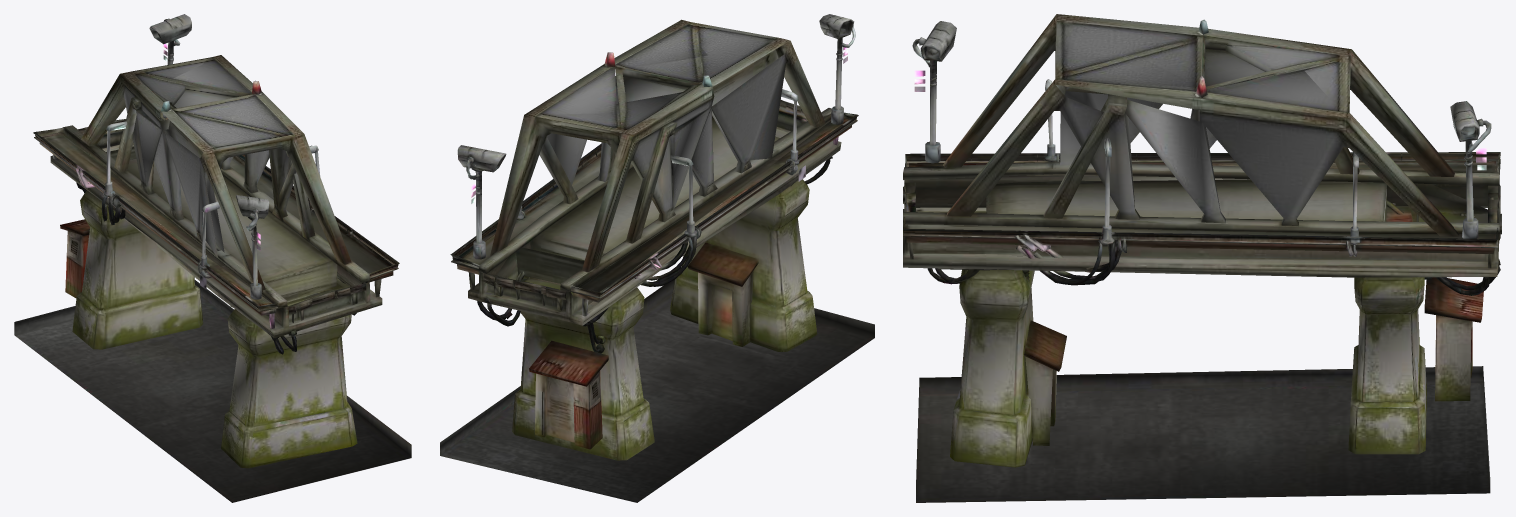
Rendered from truss_bridge.glb.
The picture shows the model from 3 angles, left to right: view 1: azimuth 30°, elevation 25°; view 2: azimuth 150°, elevation 25°; view 3: azimuth 270°, elevation 25°; orthographic projection. The views are drawn at different scales.
Parts seen in each view (by area): view 1: Body; view 2: Body; view 3: Body.
Boxes of the visible parts, bbox=[...] form: Body: bbox=[14, 14, 411, 502]; Body: bbox=[440, 14, 874, 502]; Body: bbox=[903, 14, 1501, 502].
Bounding box in the file's own units: 10 × 16.61 × 22.51.
Materials: 2 (2 with a texture image).
